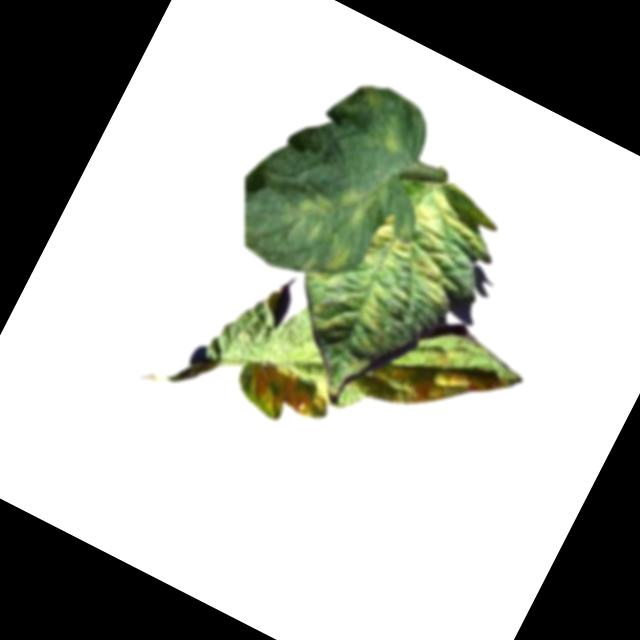Leaf_Mold: (357, 324, 523, 457), (357, 168, 500, 317), (278, 161, 385, 265), (240, 351, 342, 437), (341, 80, 423, 161), (318, 234, 359, 278)
